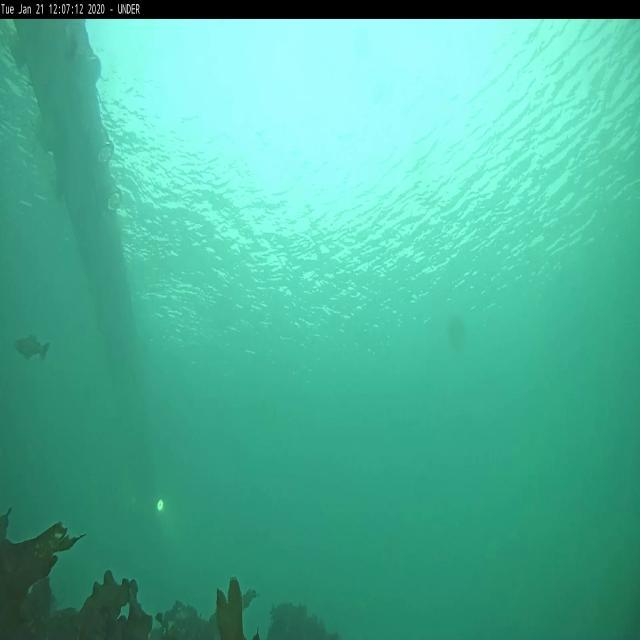fish: (13, 336, 49, 359)
